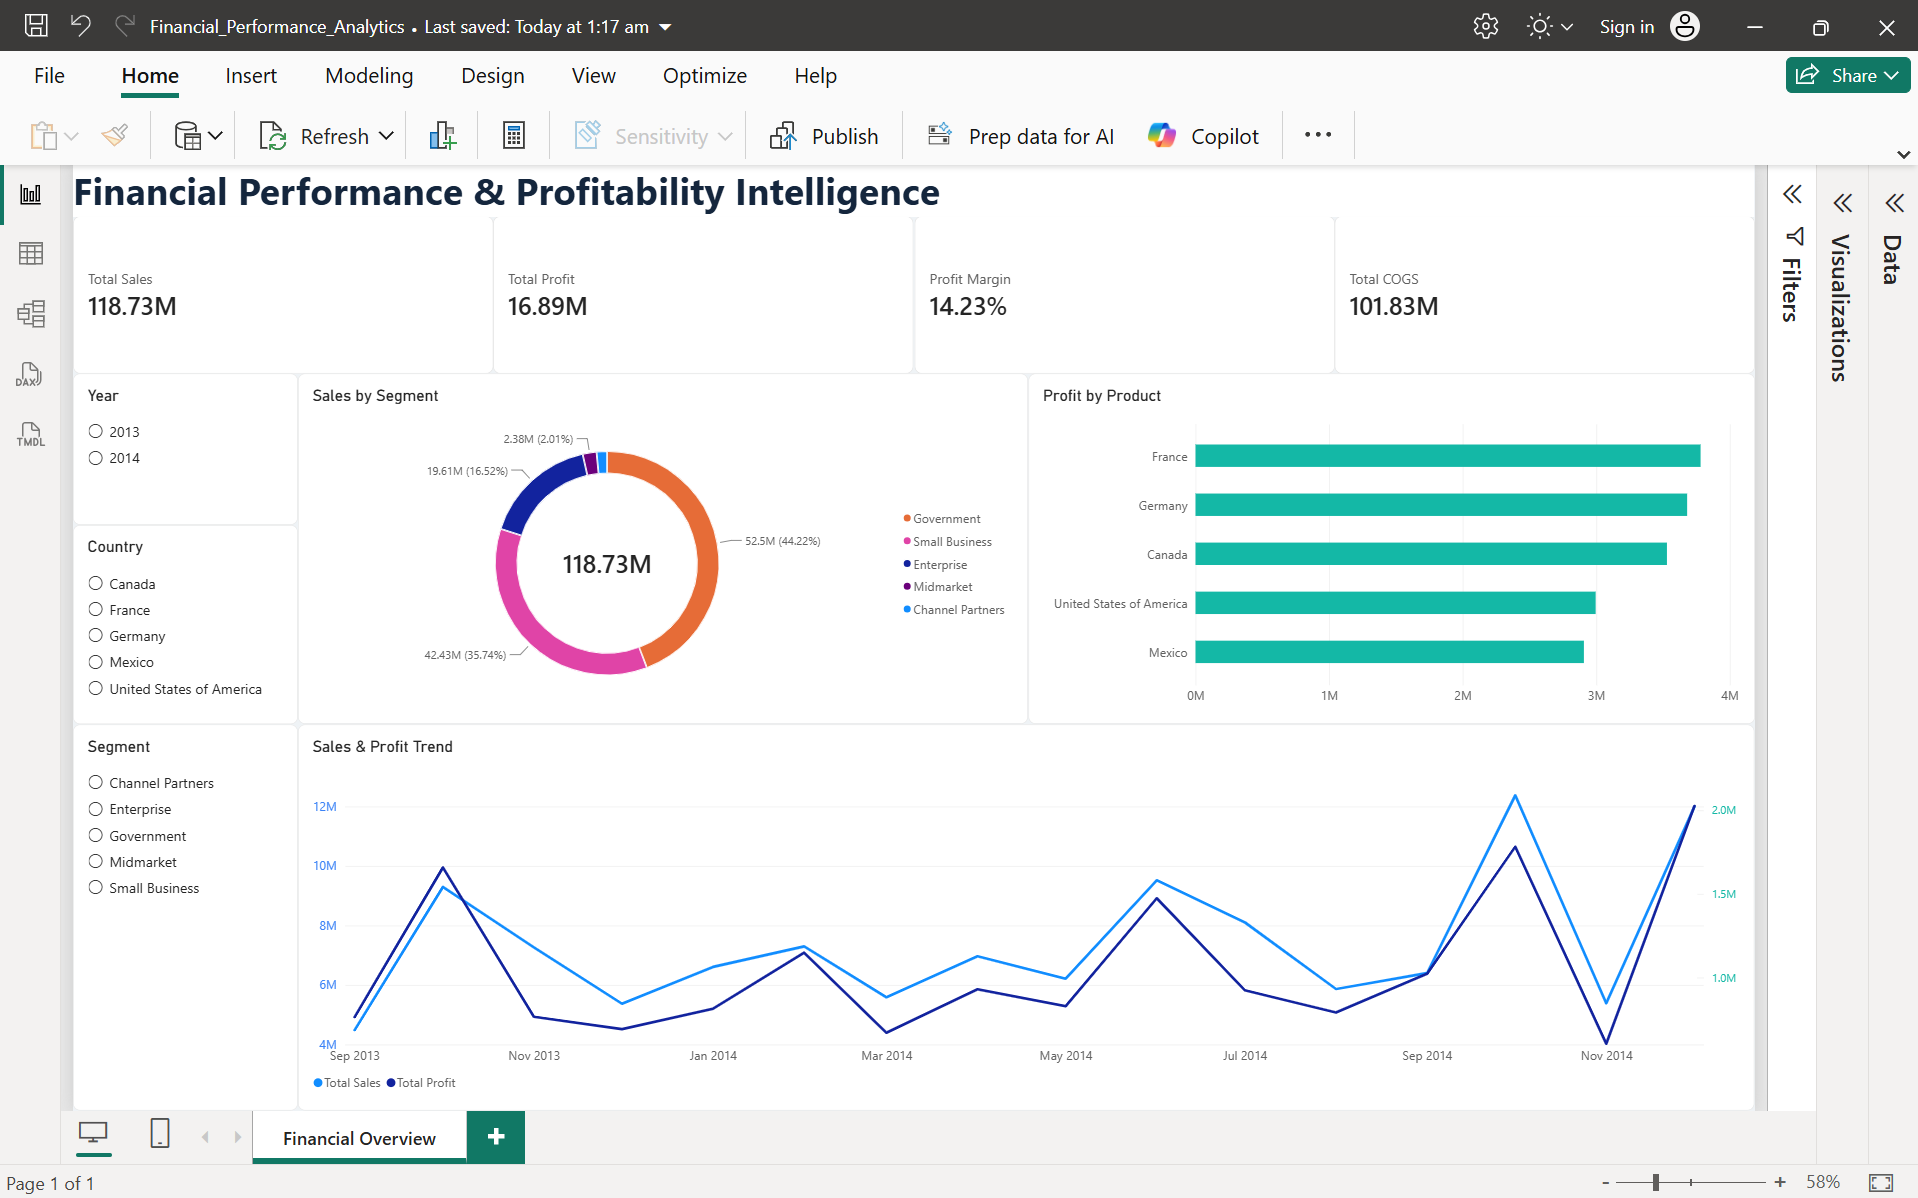

Layout of this report page (visuals, bound fields, positions):
{"tool":"powerbi","page":{"name":"Financial Overview","canvas":[1920,1080],"ordinal":0},"visuals":[{"type":"cardVisual","fields":{"Data":["Financials.Total Sales"]},"box":[0,59.1,480,180],"z":0},{"type":"cardVisual","fields":{"Data":["Financials.Total Profit"]},"box":[479.2,59.1,480,180],"z":1000},{"type":"cardVisual","fields":{"Data":["Financials.Profit Margin"]},"box":[960.8,59.1,480,180],"z":2000},{"type":"cardVisual","fields":{"Data":["Financials.Total COGS"]},"box":[1440,59.1,480,180],"z":3000},{"type":"lineChart","title":"Sales & Profit Trend","fields":{"Category":["Financials.Date.Variation.Date Hierarchy.Year","Financials.Date.Variation.Date Hierarchy.Quarter","Financials.Date.Variation.Date Hierarchy.Month","Financials.Date.Variation.Date Hierarchy.Day"],"Y":["Financials.Total Sales"],"Y2":["Financials.Total Profit"]},"box":[256.7,638.2,1662.6,440.6],"z":4000},{"type":"clusteredBarChart","title":"Profit by Product","fields":{"Category":["Financials.Country"],"Y":["Financials.Total Profit"]},"box":[1090.2,238.5,829,399.8],"z":5000},{"type":"donutChart","title":"Sales by Segment","fields":{"Category":["Financials.Segment"],"Y":["Financials.Total Sales"]},"box":[256.7,238.5,833.6,399.8],"z":6000},{"type":"textbox","box":[0,0,1919.3,59.1],"z":7000},{"type":"listSlicer","fields":{"Values":["Financials.Year"]},"box":[0,238.5,256.7,172.6],"z":8000},{"type":"listSlicer","fields":{"Values":["Financials.Country"]},"box":[0,411.1,256.7,227.1],"z":9000},{"type":"listSlicer","fields":{"Values":["Financials.Segment"]},"box":[0,638.2,256.7,440.6],"z":10000}]}

Visuals, with their boxes on the page's 1920x1080 design canvas (x1, y1, x2, y2). These are canvas units, not pixel positions in the 1918x1198 screenshot, which may show the page scaled, cropped or inside an application window:
cardVisual - Financials.Total Sales: <region>0, 59, 480, 239</region>
cardVisual - Financials.Total Profit: <region>479, 59, 959, 239</region>
cardVisual - Financials.Profit Margin: <region>961, 59, 1441, 239</region>
cardVisual - Financials.Total COGS: <region>1440, 59, 1920, 239</region>
"Sales & Profit Trend" lineChart: <region>257, 638, 1919, 1079</region>
"Profit by Product" clusteredBarChart: <region>1090, 238, 1919, 638</region>
"Sales by Segment" donutChart: <region>257, 238, 1090, 638</region>
textbox: <region>0, 0, 1919, 59</region>
listSlicer - Financials.Year: <region>0, 238, 257, 411</region>
listSlicer - Financials.Country: <region>0, 411, 257, 638</region>
listSlicer - Financials.Segment: <region>0, 638, 257, 1079</region>
